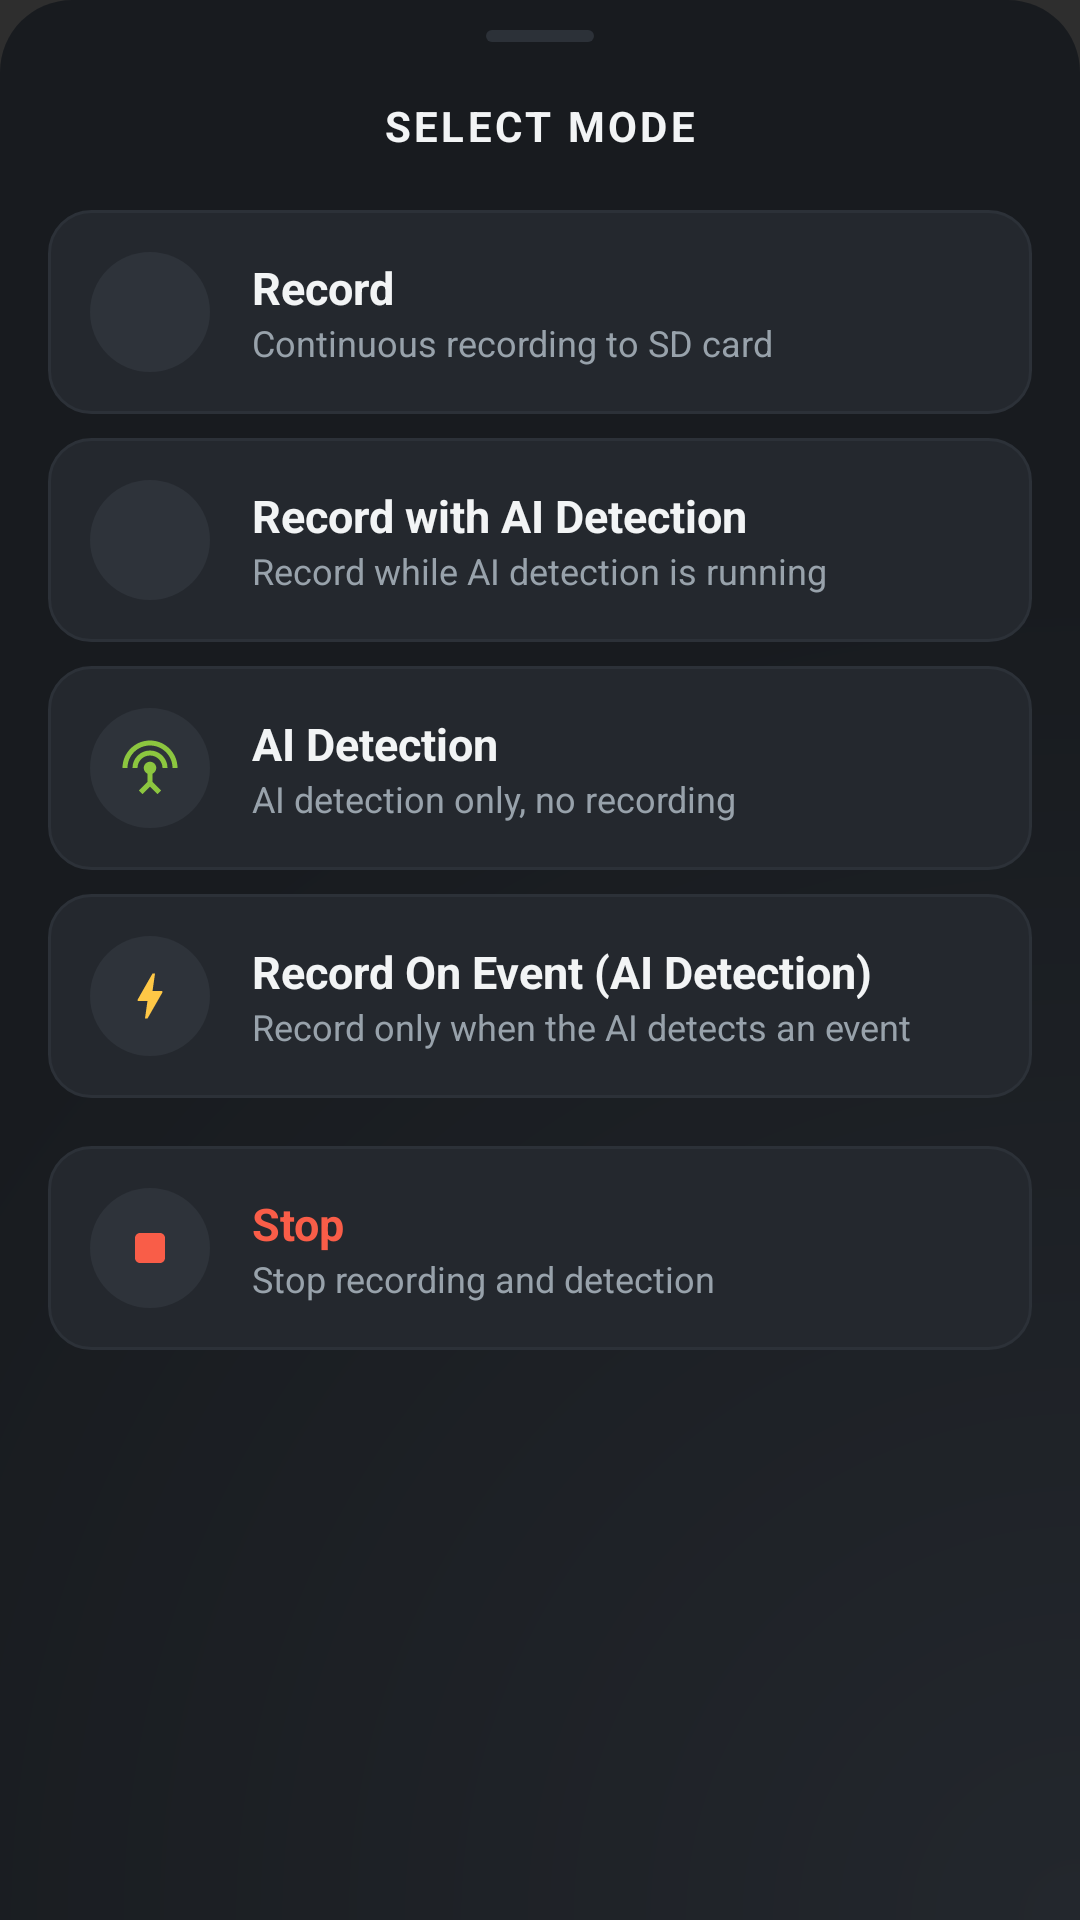

Icons on this 1080 × 1920 Android screen, each with the point to tap as (x=x, y=y):
bolt: (x=150, y=996)
lora: (x=150, y=767)
